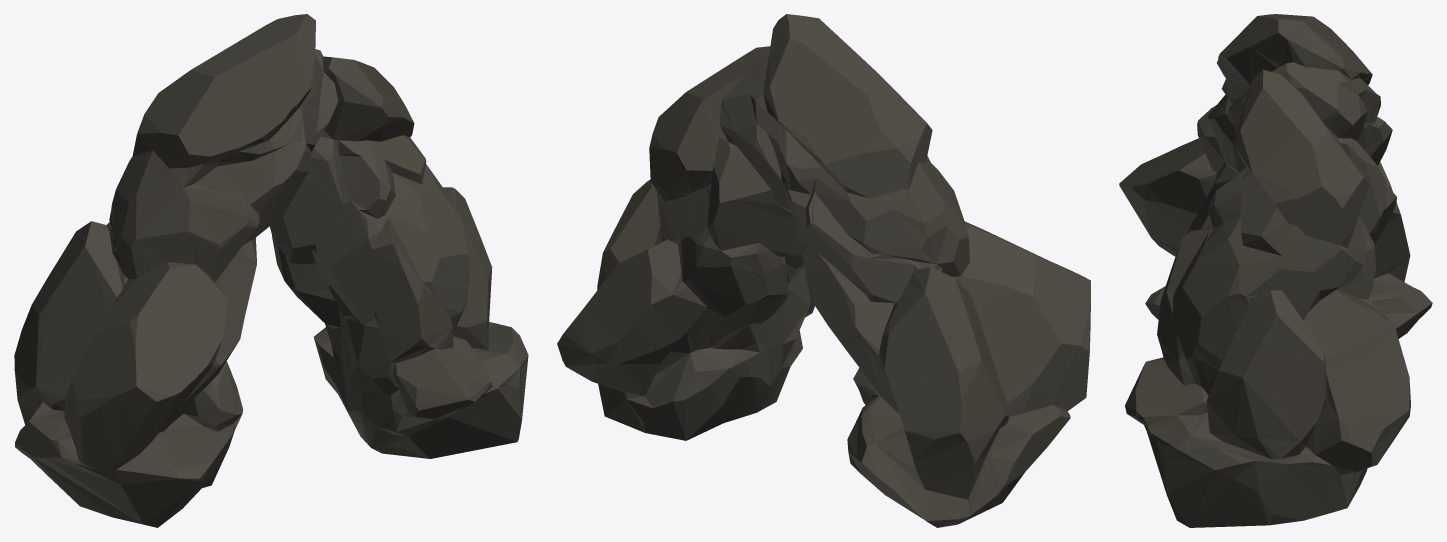
Rendered from synty-rock-caveentrance-02.gltf.
The picture shows the model from 3 angles, left to right: view 1: azimuth 30°, elevation 25°; view 2: azimuth 150°, elevation 25°; view 3: azimuth 270°, elevation 25°; orthographic projection.
Parts seen in each view (by area): view 1: SM_Rock_CaveEntrance_02; view 2: SM_Rock_CaveEntrance_02; view 3: SM_Rock_CaveEntrance_02.
Part boxes in pixels (left/top/right/bottom): SM_Rock_CaveEntrance_02: left=14, top=14, right=528, bottom=527; SM_Rock_CaveEntrance_02: left=557, top=14, right=1090, bottom=527; SM_Rock_CaveEntrance_02: left=1119, top=14, right=1432, bottom=527.
Size of the model in its own units: 11.19 by 10.21 by 6.66.
1 material, 1 textured.
